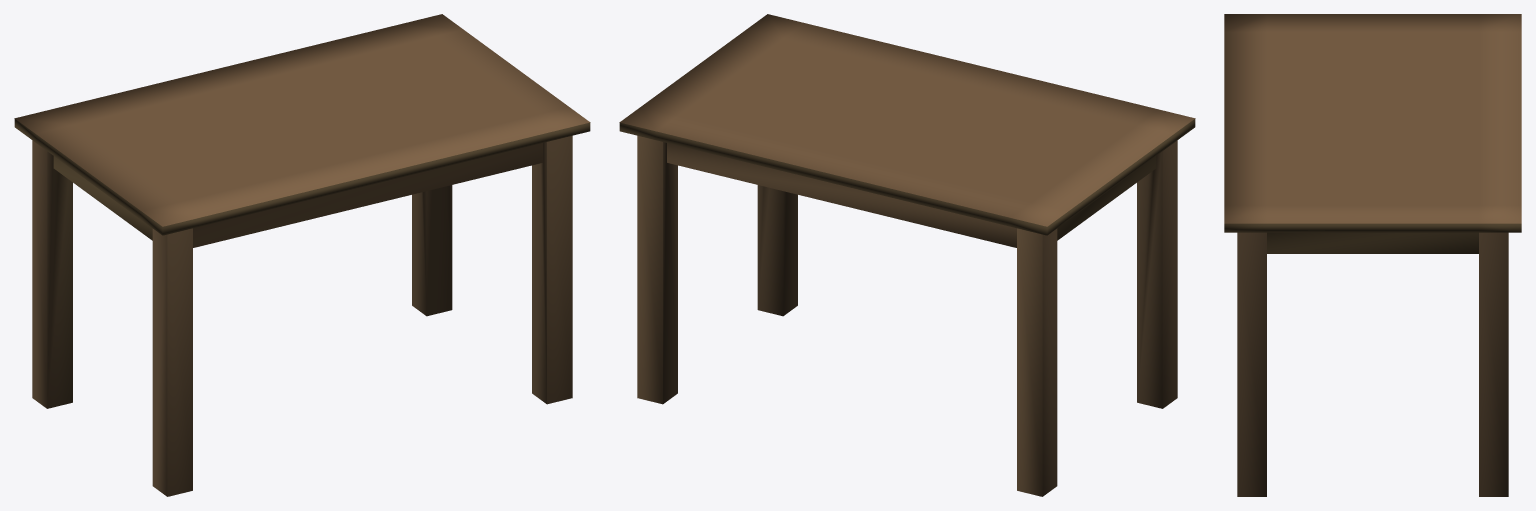
Rendered from furnishings-tables-woodentable_v1.glb.
The picture shows the model from 3 angles, left to right: view 1: azimuth 30°, elevation 25°; view 2: azimuth 150°, elevation 25°; view 3: azimuth 270°, elevation 25°; orthographic projection.
Visible parts, largest first — view 1: WoodenTable.001; view 2: WoodenTable.001; view 3: WoodenTable.001.
Part boxes in pixels (bbox=[...]): WoodenTable.001: bbox=[14, 14, 590, 496]; WoodenTable.001: bbox=[619, 14, 1195, 496]; WoodenTable.001: bbox=[1224, 14, 1521, 496].
Size of the model in its own units: 1.5 by 0.93 by 0.8995.
